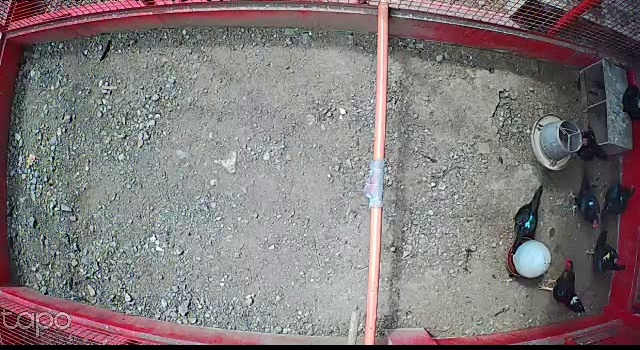Chicken: (564, 168, 603, 235), (510, 187, 545, 258), (583, 227, 628, 276), (566, 123, 611, 160), (600, 177, 636, 220), (618, 77, 640, 132)
Drinker: (504, 239, 552, 281)
Feeder: (529, 112, 585, 171)
Rooster: (538, 256, 589, 317)
Saddle_Color_Blue: (588, 202, 594, 206)
Saddle_Color_Yellow: (601, 252, 611, 261)
